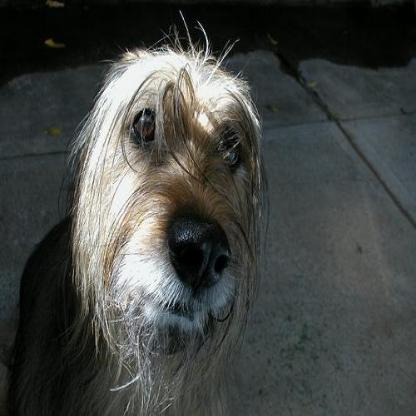briard: (21, 13, 268, 414)
